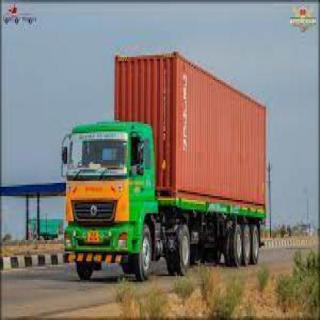Normal_vehicle: (59, 45, 274, 280)
